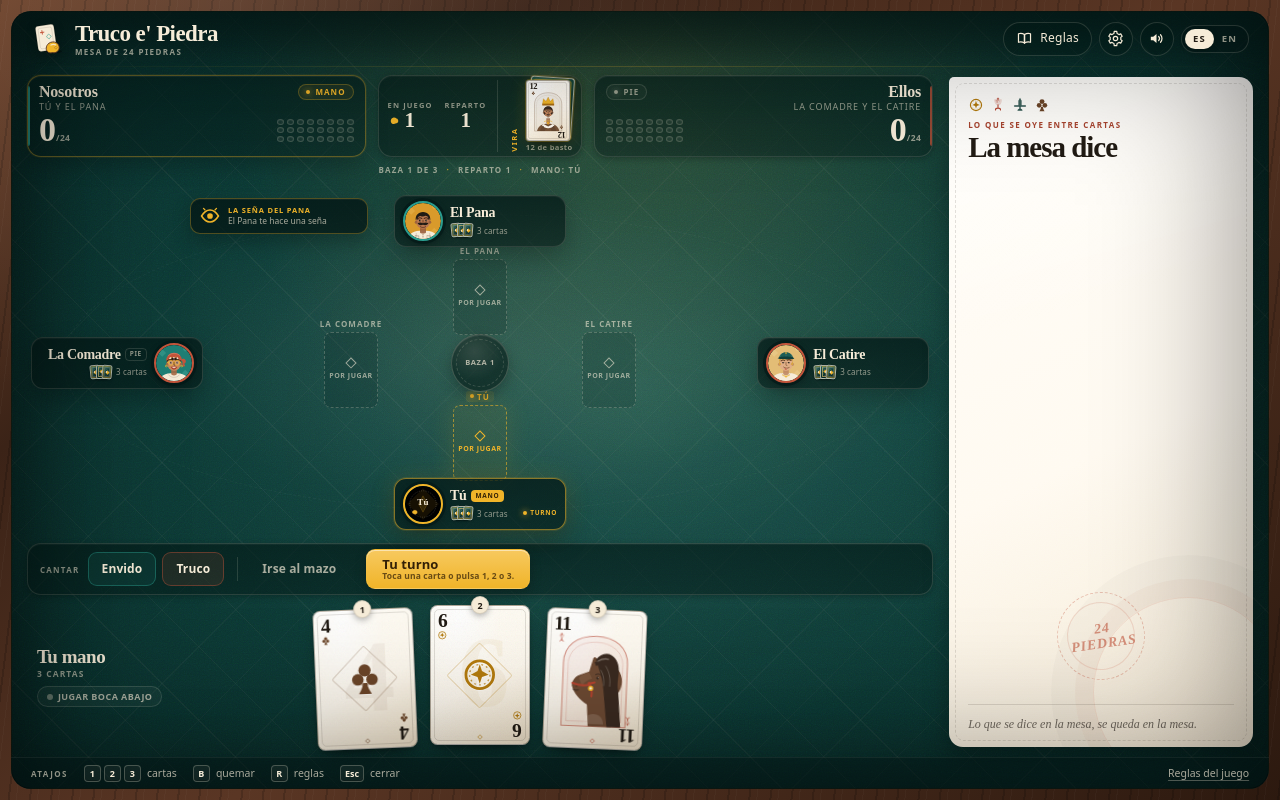
Scenario: the live table › shows El Pana’s seña and reveals the gesture and card on click
Click the button "La seña del Pana El Pana te hace una seña" at (279, 216), box top-left (190, 198), bottom-right (368, 234)
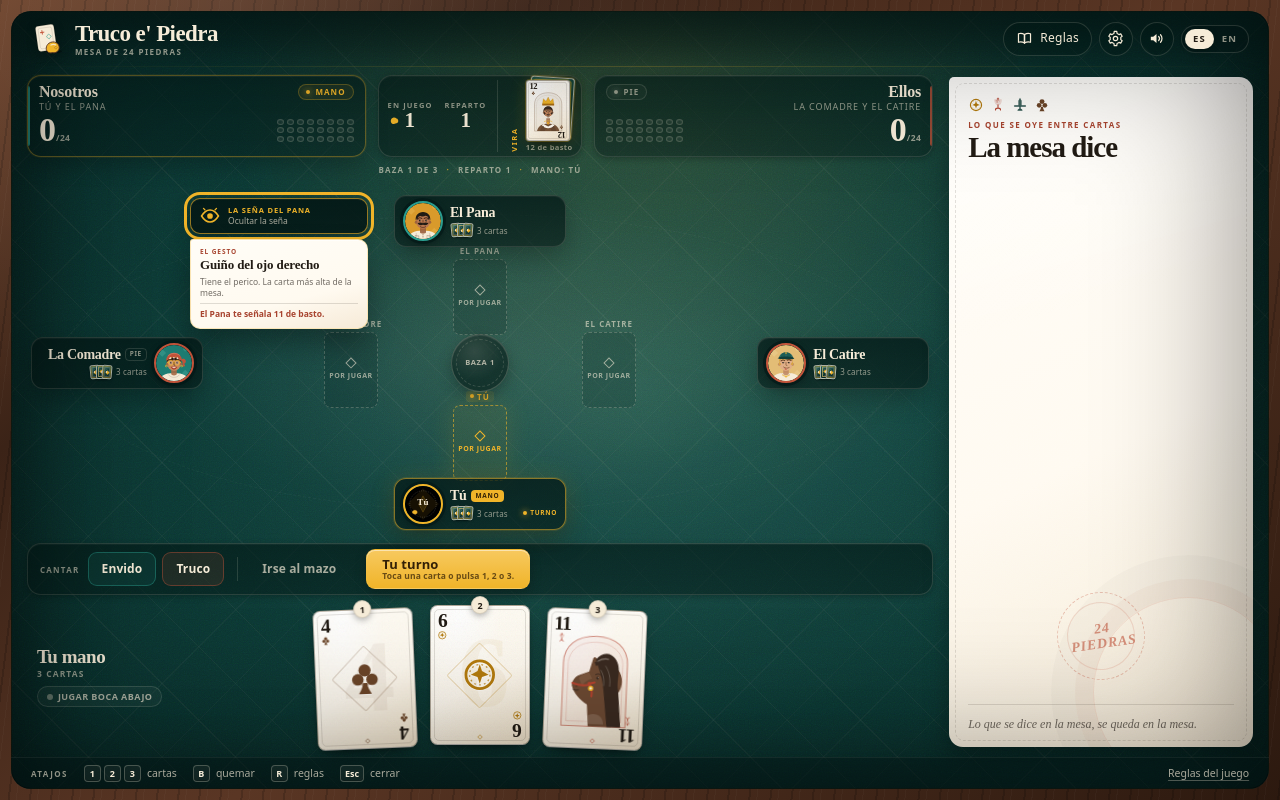
expect the element named "La seña del Pana" shows "Guiño del ojo derecho": met, box top-left (200, 257), bottom-right (320, 272)
expect the element named "La seña del Pana" shows "El Pana te señala 11 de basto.": met, box top-left (200, 308), bottom-right (324, 319)
